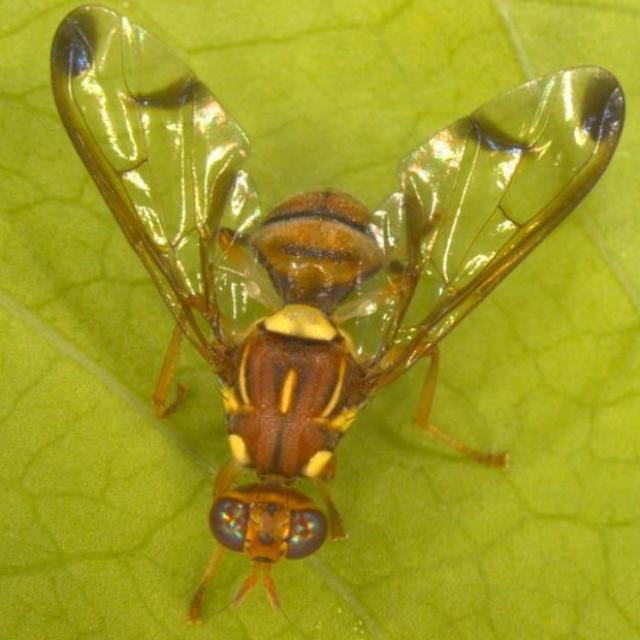Fruit fly: (36, 0, 635, 631)
